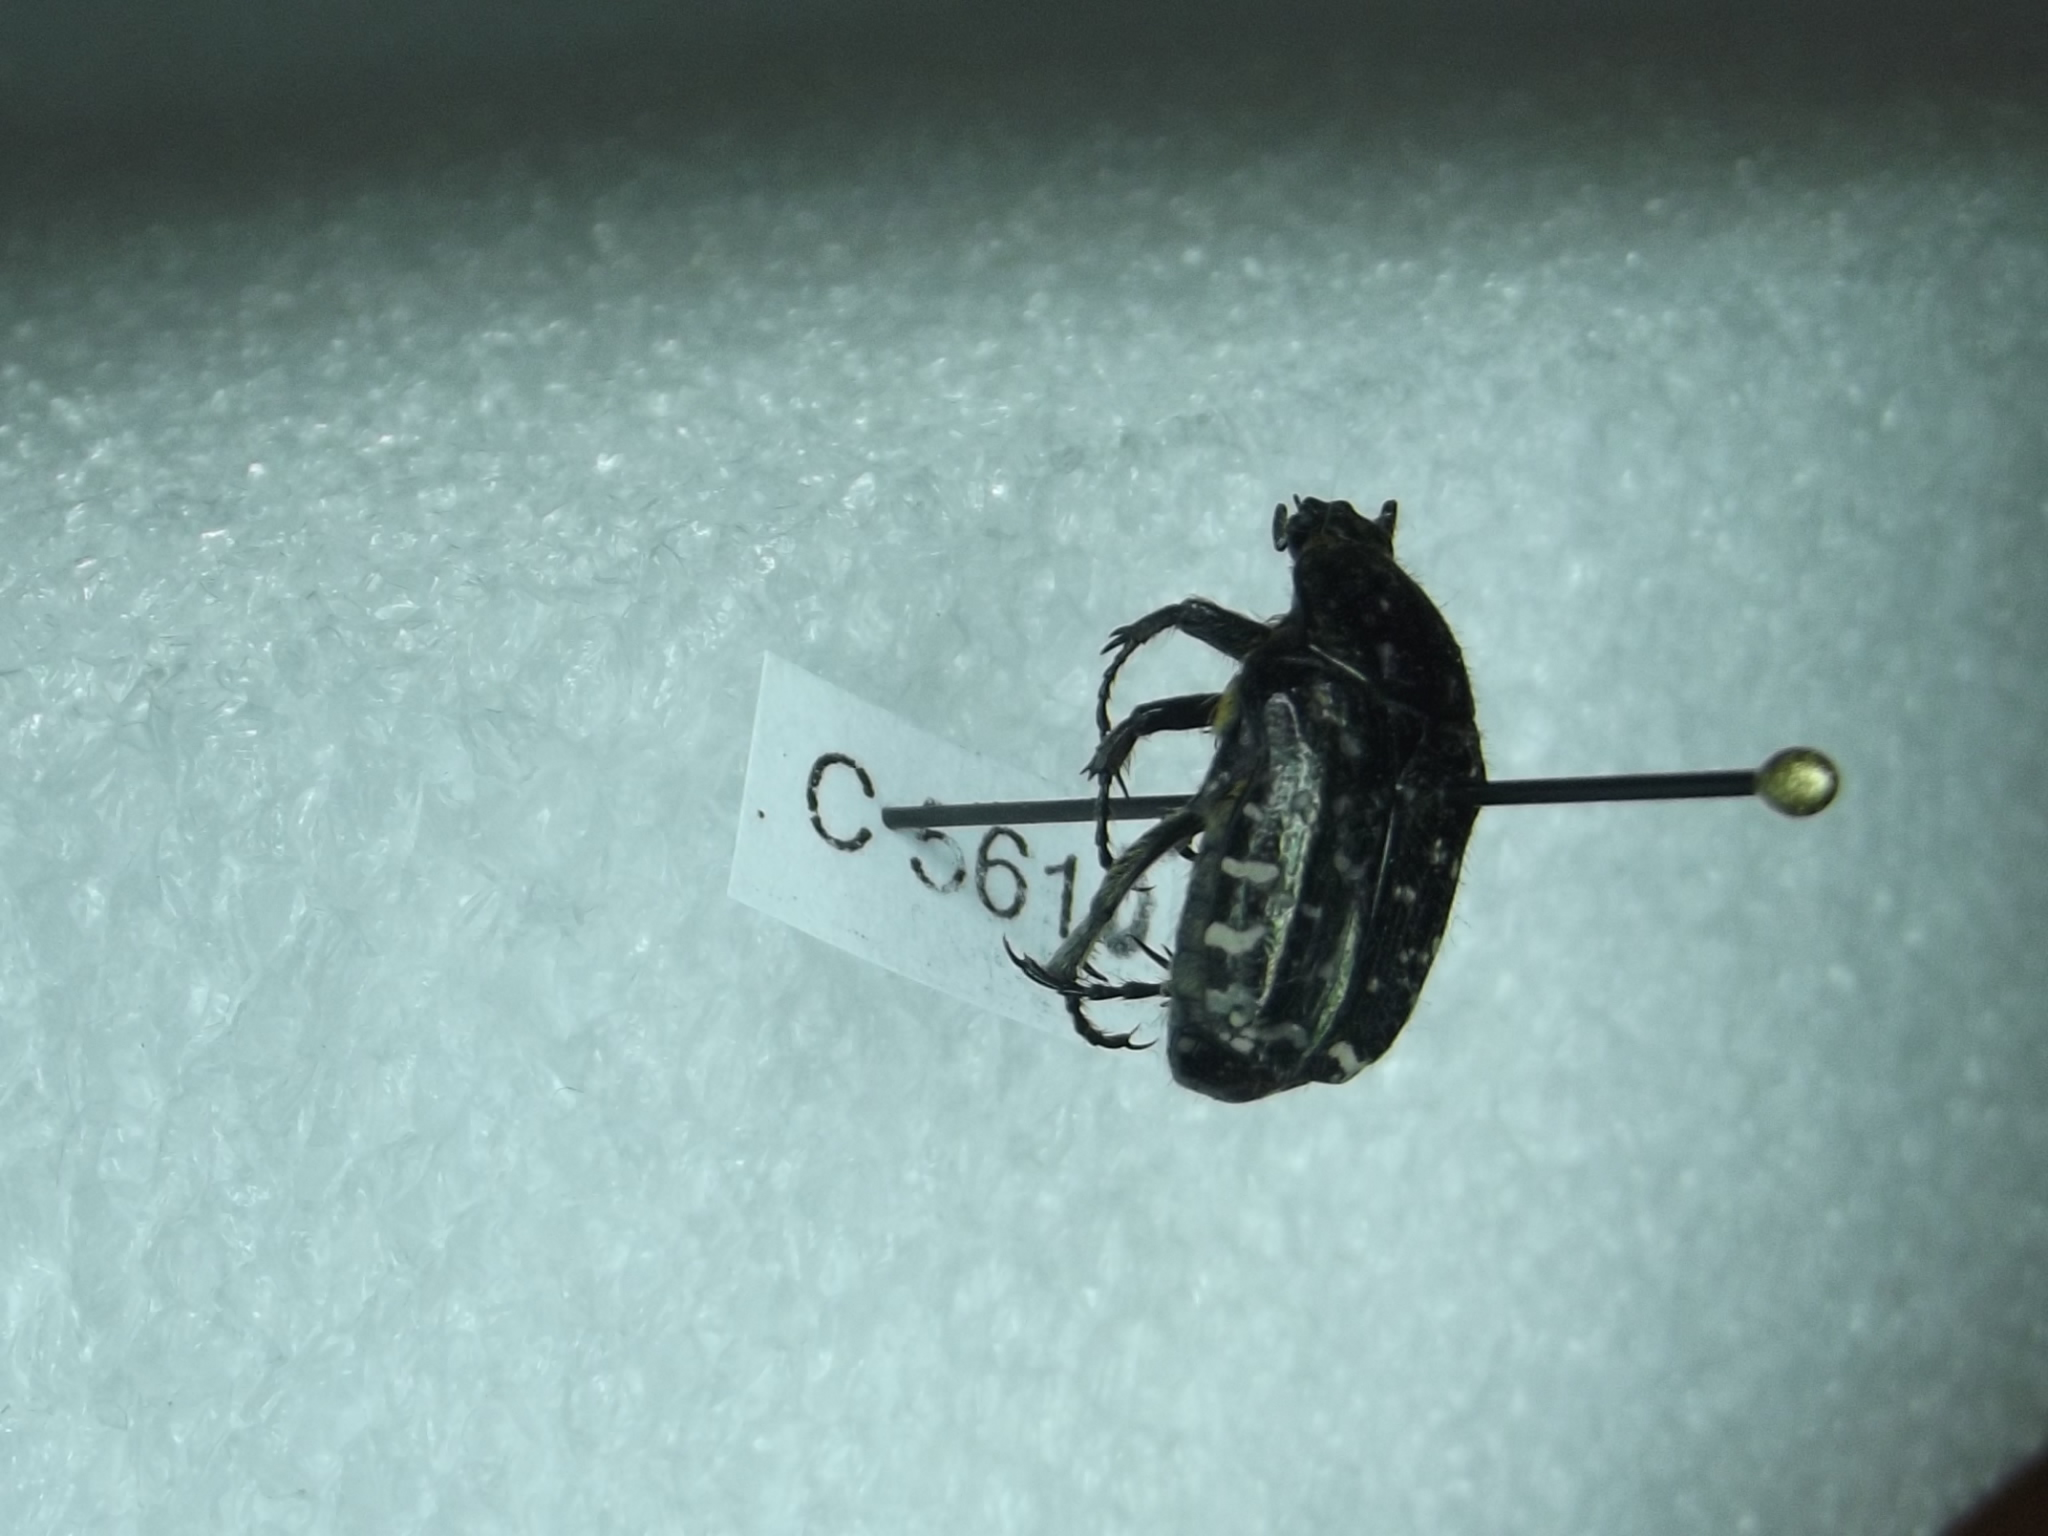Oxythyrea_albopicta: (1079, 470, 1488, 1129)
